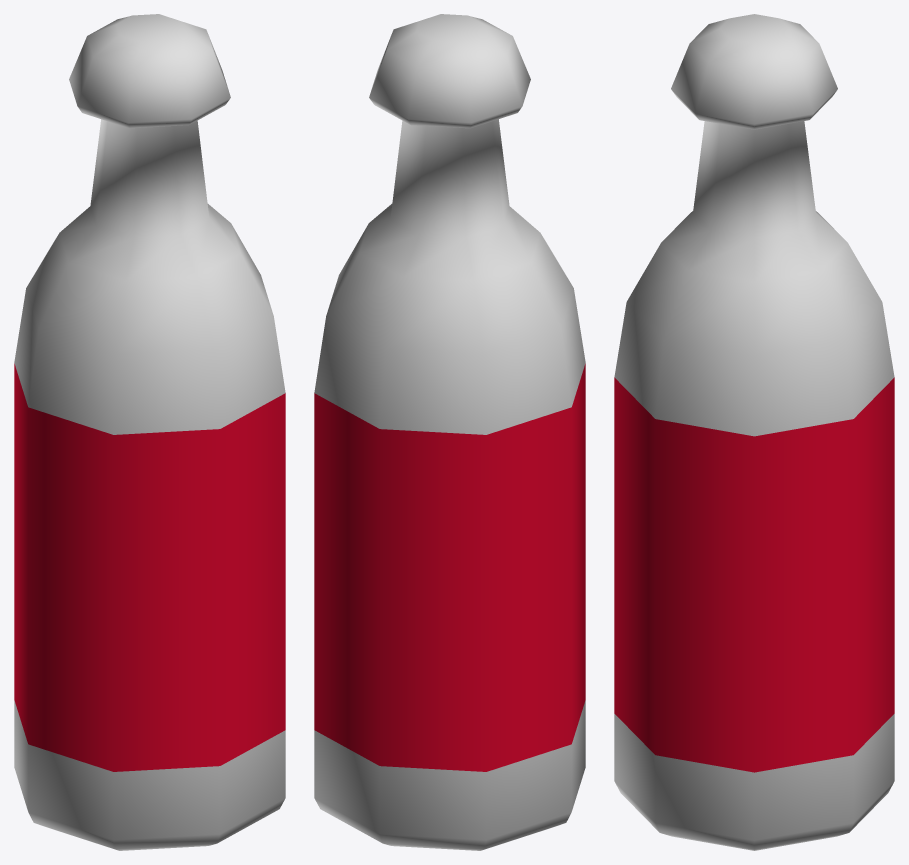
Rendered from Bottle.fbx.
3 renders of one model, left to right at view 1: azimuth 30°, elevation 25°; view 2: azimuth 150°, elevation 25°; view 3: azimuth 270°, elevation 25°, orthographic.
Visible parts, largest first — view 1: Cylinder, Cylinder.001; view 2: Cylinder, Cylinder.001; view 3: Cylinder, Cylinder.001.
Part boxes in pixels (x1,y1,x2,y2): Cylinder: (14,14,285,850); Cylinder.001: (14,363,285,771); Cylinder: (314,14,585,850); Cylinder.001: (314,363,585,771); Cylinder: (614,14,894,850); Cylinder.001: (614,377,894,772).
Bounding box in the file's own units: 10.01 × 30.56 × 10.01.
